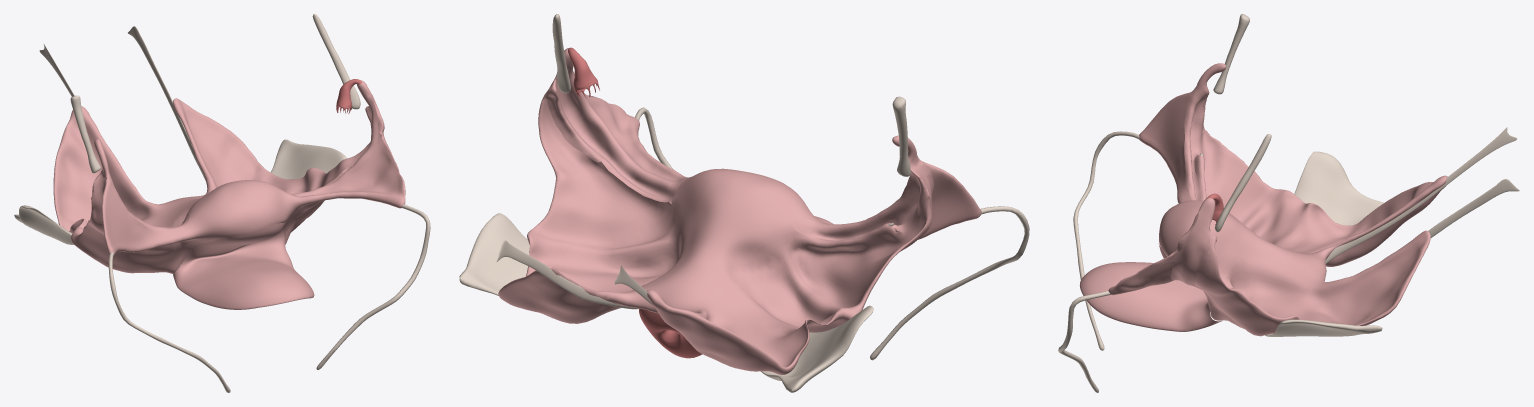
The model's file is 3d-vh-f-ovary-l-landmark.glb.
3 renders of one model, left to right at view 1: azimuth 30°, elevation 25°; view 2: azimuth 150°, elevation 25°; view 3: azimuth 270°, elevation 25°, orthographic. The views are drawn at different scales.
Visible parts, largest first — view 1: VH_F_ovary_L_landmark_ligaments_of_uterus_and_ovaries, VH_F_ovary_L_landmark_fallopian_tube; view 2: VH_F_ovary_L_landmark_ligaments_of_uterus_and_ovaries, VH_F_ovary_L_landmark_uterus, VH_F_ovary_L_landmark_fallopian_tube; view 3: VH_F_ovary_L_landmark_ligaments_of_uterus_and_ovaries.
Boxes of the visible parts, <box> form: VH_F_ovary_L_landmark_ligaments_of_uterus_and_ovaries: <box>14,14,430,392</box>; VH_F_ovary_L_landmark_fallopian_tube: <box>336,79,361,113</box>; VH_F_ovary_L_landmark_ligaments_of_uterus_and_ovaries: <box>459,14,1029,392</box>; VH_F_ovary_L_landmark_uterus: <box>639,308,702,358</box>; VH_F_ovary_L_landmark_fallopian_tube: <box>568,47,599,98</box>; VH_F_ovary_L_landmark_ligaments_of_uterus_and_ovaries: <box>1058,14,1519,392</box>.
Size of the model in its own units: 0.1471 by 0.1234 by 0.1706.
